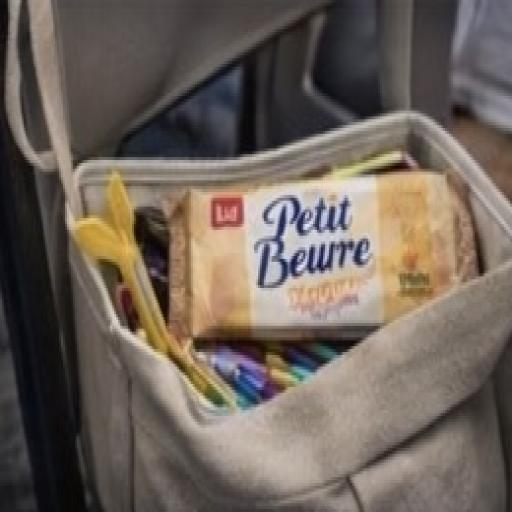petit_beurre: (110, 143, 505, 400)
